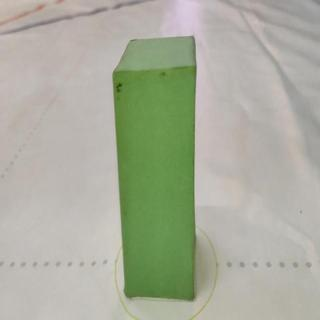greenbox: (111, 37, 200, 302)
